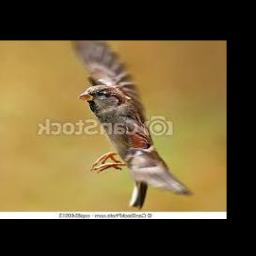Sparrow: (72, 40, 193, 209)
